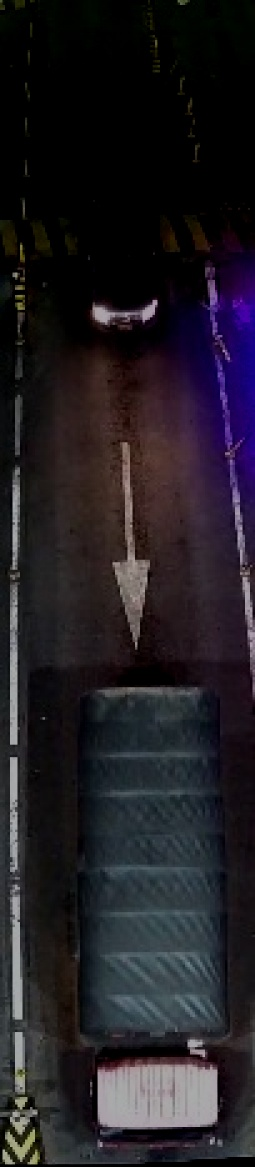car: (84, 193, 165, 348)
truck: (74, 685, 230, 1151)
